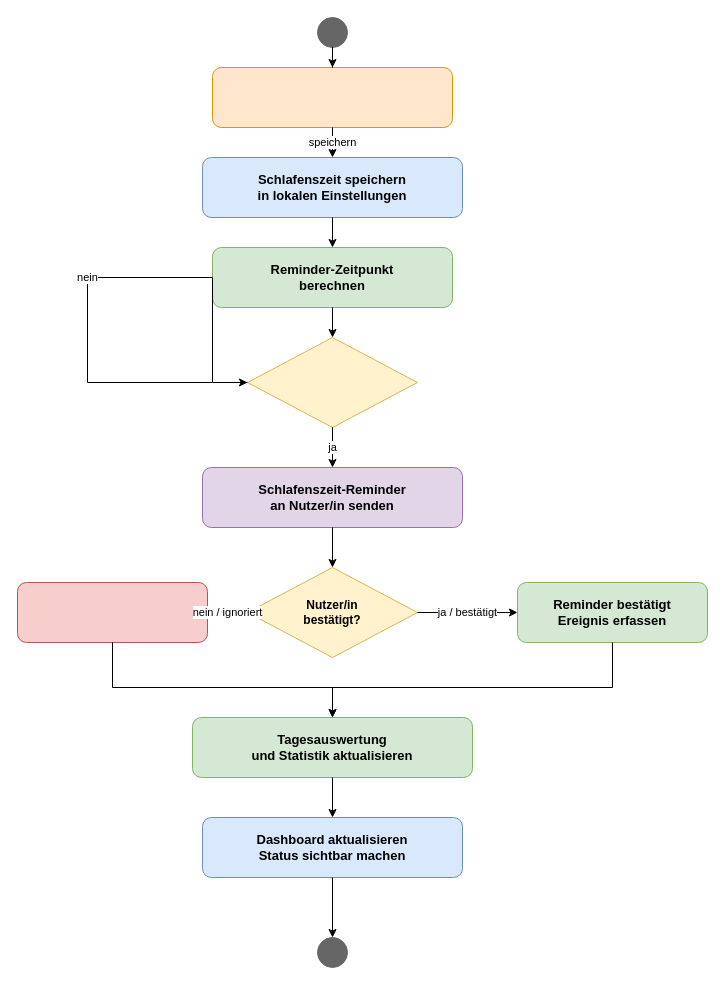
This 725x985 diagram has some shape labels left out. Each missing label, with the centre of its shape:
Reminder ignoriert Ereignis erfassen: [112,612]
Reminder-Zeitpunkt erreicht?: [332,382]
Schlafenszeit setzen oder ändern: [332,97]
